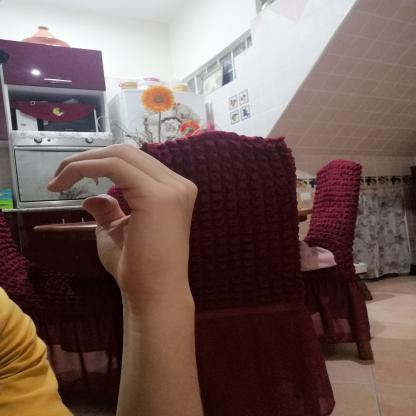JEEM: (33, 133, 220, 306)
